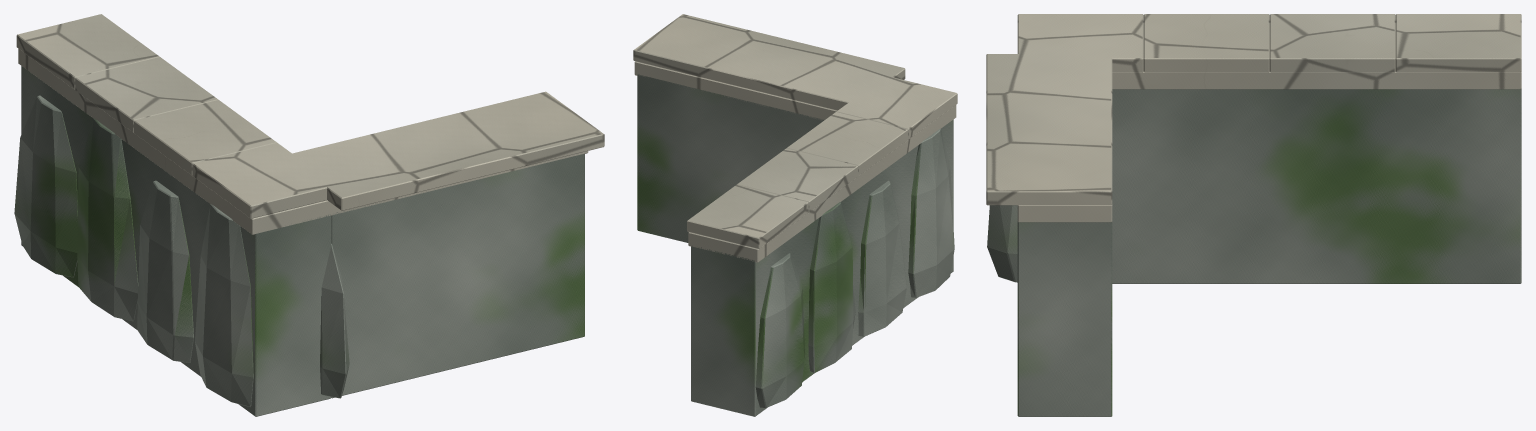
The model's file is t08_platform_corner.fbx.
The picture shows the model from 3 angles, left to right: view 1: azimuth 30°, elevation 25°; view 2: azimuth 150°, elevation 25°; view 3: azimuth 270°, elevation 25°; orthographic projection. The views are drawn at different scales.
Parts seen in each view (by area): view 1: t08_platform_corner.001; view 2: t08_platform_corner.001; view 3: t08_platform_corner.001.
Boxes of the visible parts, x1,y1,x2,y2 form: t08_platform_corner.001: [14, 14, 604, 416]; t08_platform_corner.001: [633, 14, 957, 416]; t08_platform_corner.001: [986, 14, 1521, 416].
Size of the model in its own units: 27200 by 22132 by 12800.
